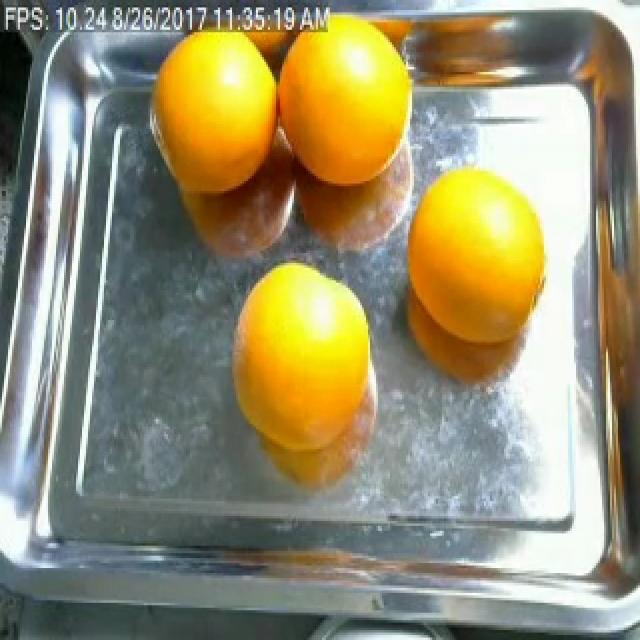Fruit: (136, 12, 292, 221), (258, 8, 414, 214), (218, 248, 384, 439)
